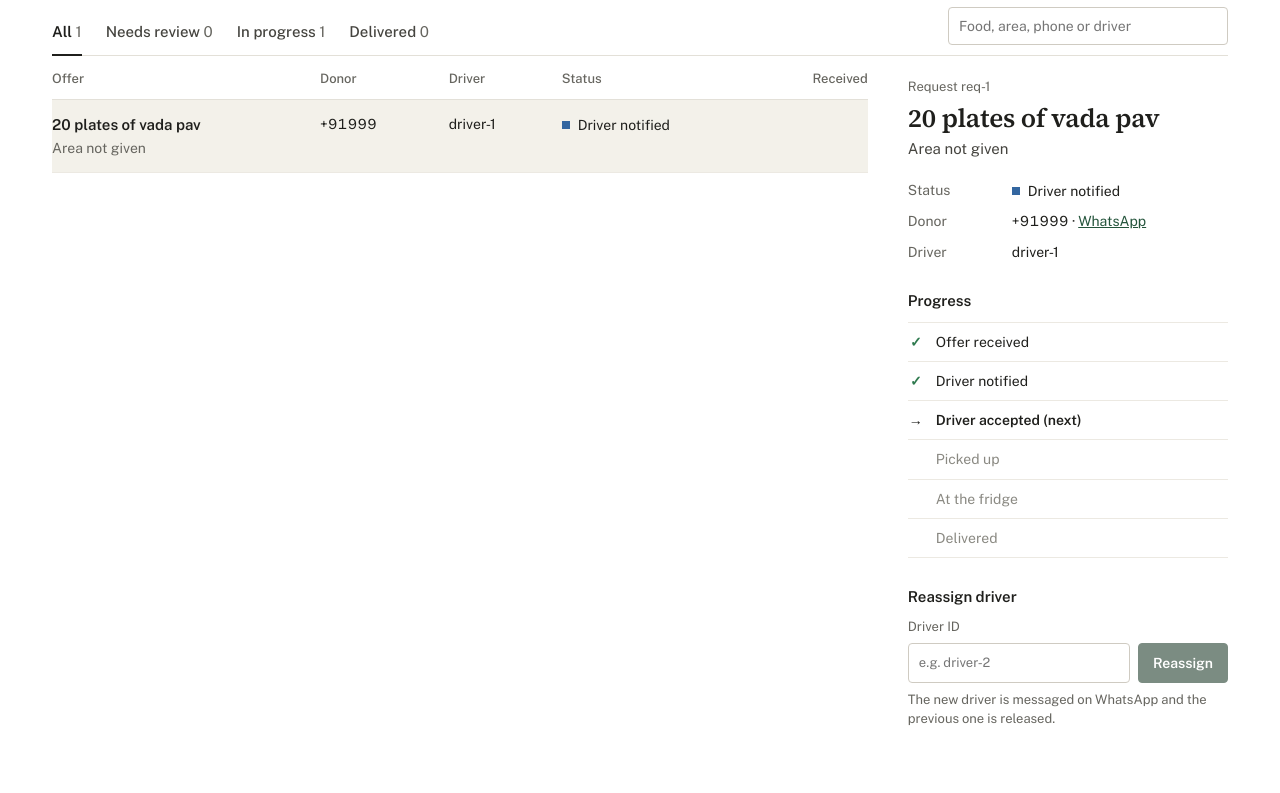
Test: a successful reassign refetches the list so the UI reflects the change
(page scrolled)
Check: the text "driver-1" is shown, box x1=437 y1=100 x2=550 y2=173
Step 1. Type "driver-2" into the field labelled "Driver ID" → (1019, 663), box x1=908 y1=643 x2=1130 y2=683
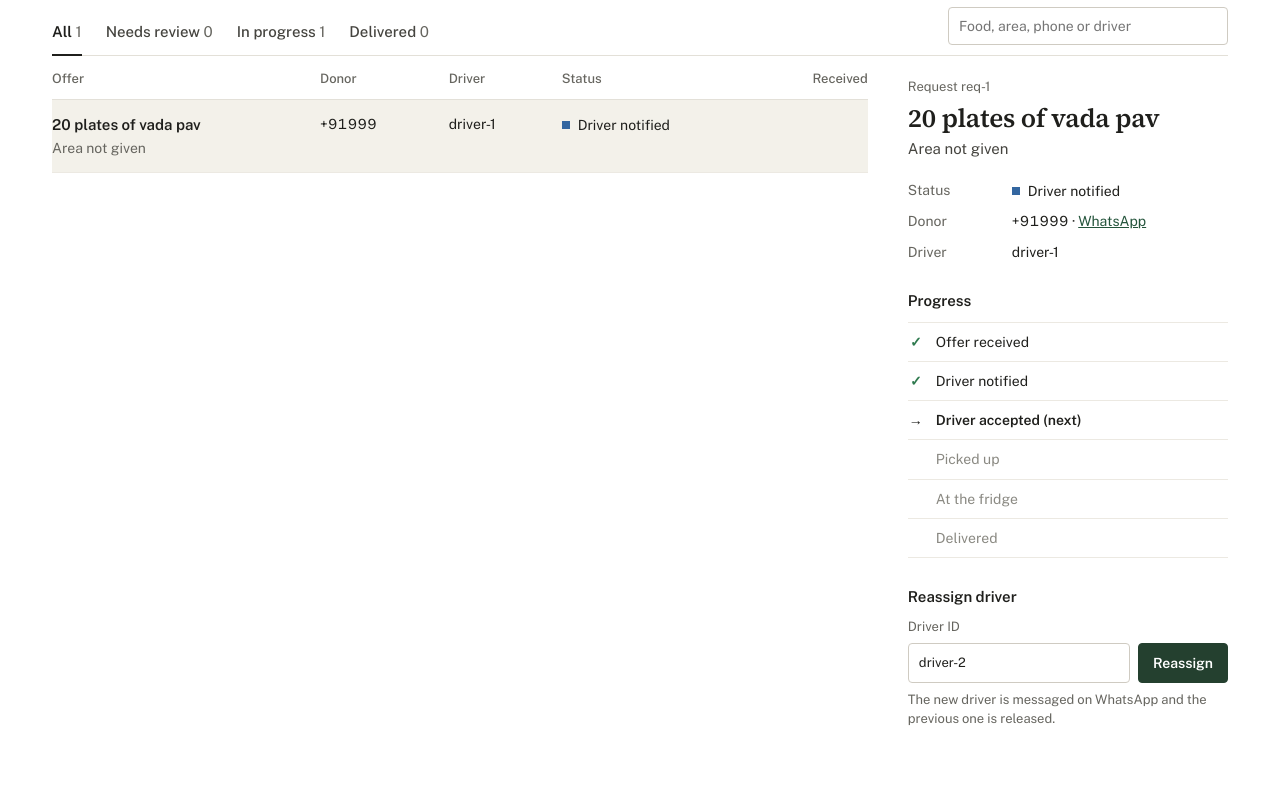
Step 2. Click the button "Reassign" → (1183, 663), box x1=1138 y1=643 x2=1228 y2=683
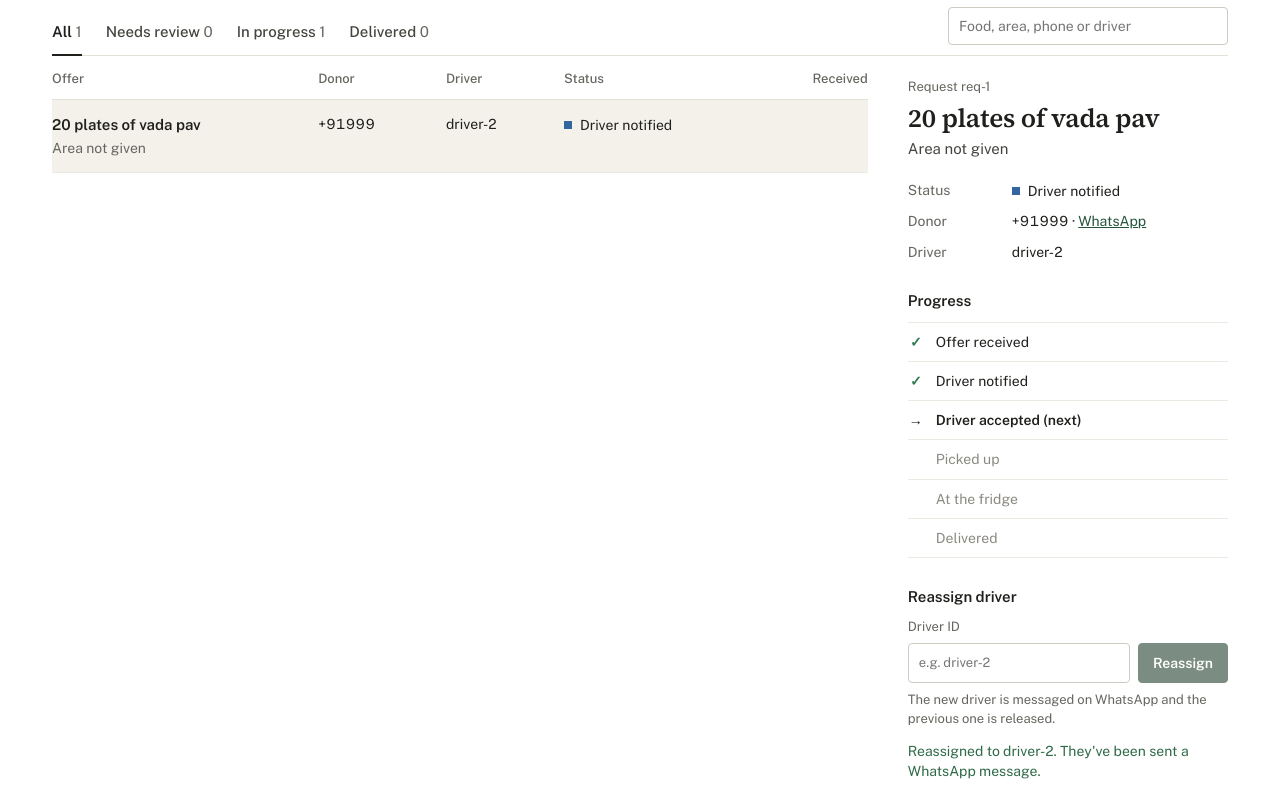
Check: the text "driver-2" is shown, box x1=434 y1=100 x2=552 y2=173
Check: the text "driver-1" is gone
Check: the message shows "Reassigned to driver-2", box x1=908 y1=743 x2=1189 y2=779
